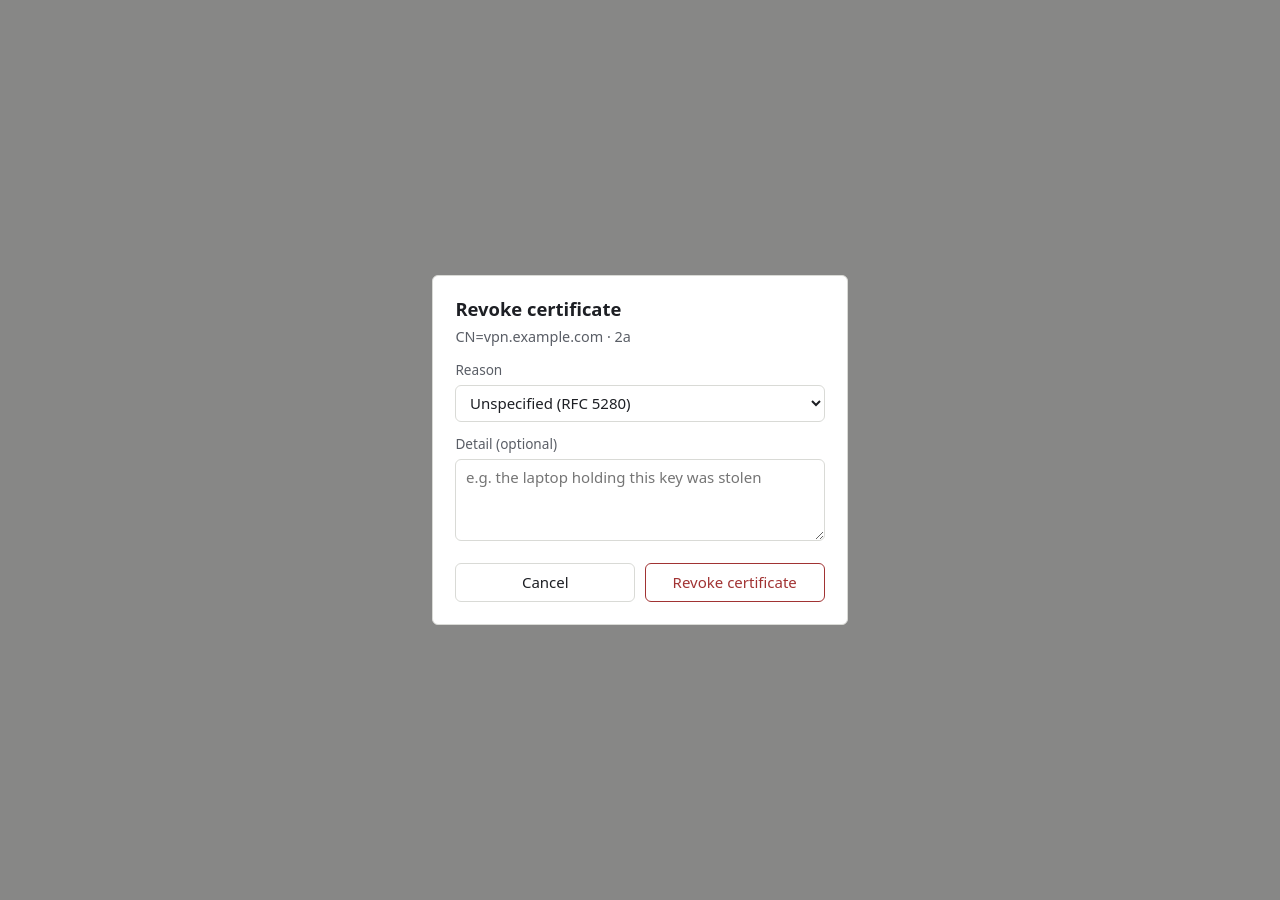
Test case: RevokeDialog › leaves the dialog open and surfaces a failure message verbatim
Click the button "Revoke certificate": (735, 582) [645,563,825,602]
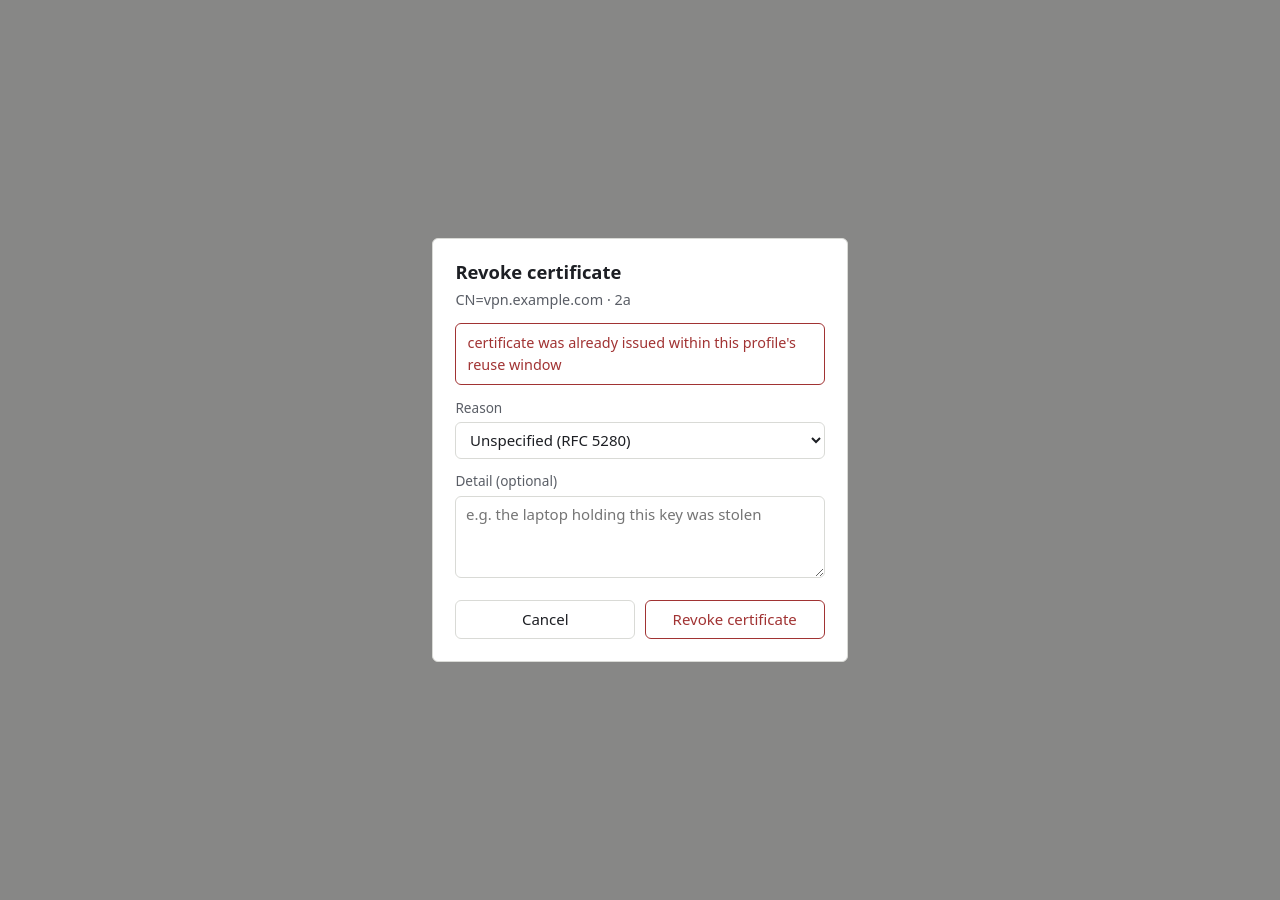
Expected: the button "Revoke certificate" is enabled, [645,600,825,638]
Expected: the message reads "certificate was already issued within this profile's reuse window", [468,334,796,374]
